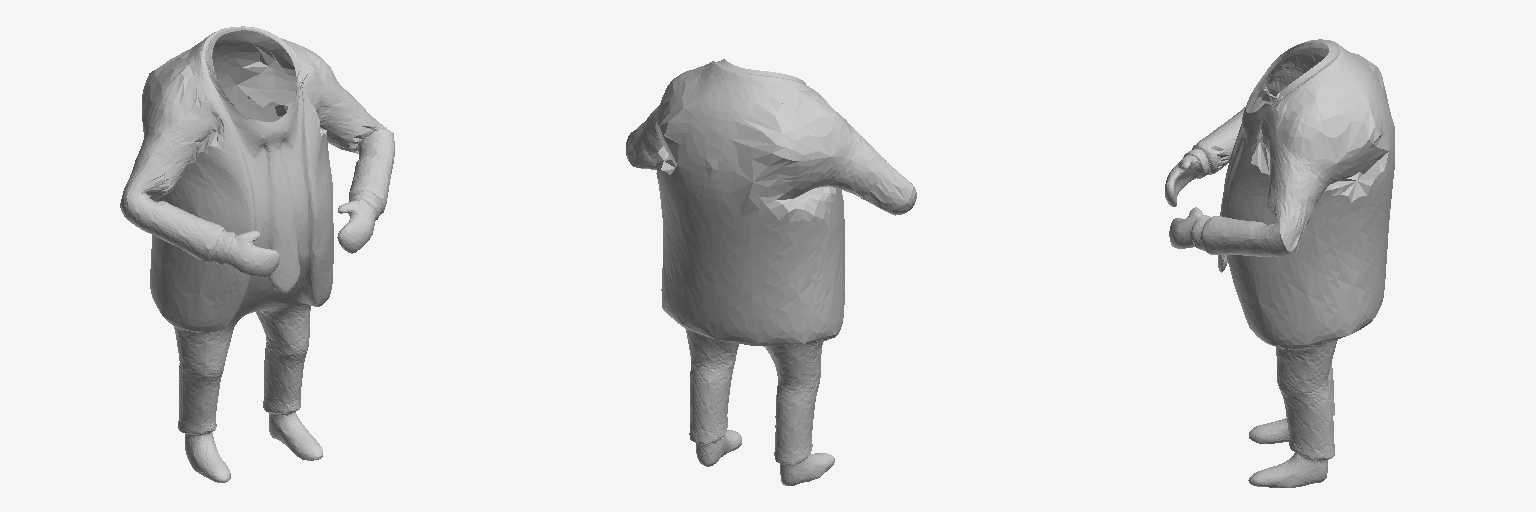
The model's file is trump_03.obj.
3 views of the same model, side by side, from view 1: azimuth 30°, elevation 25°; view 2: azimuth 150°, elevation 25°; view 3: azimuth 270°, elevation 25° (orthographic).
Visible parts, largest first — view 1: körper; view 2: körper; view 3: körper.
Part boxes in pixels (x1,y1,x2,y2): körper: (120, 26, 394, 482); körper: (626, 59, 916, 485); körper: (1165, 39, 1394, 487).
Bounding box in the file's own units: 103 × 145 × 73.84.